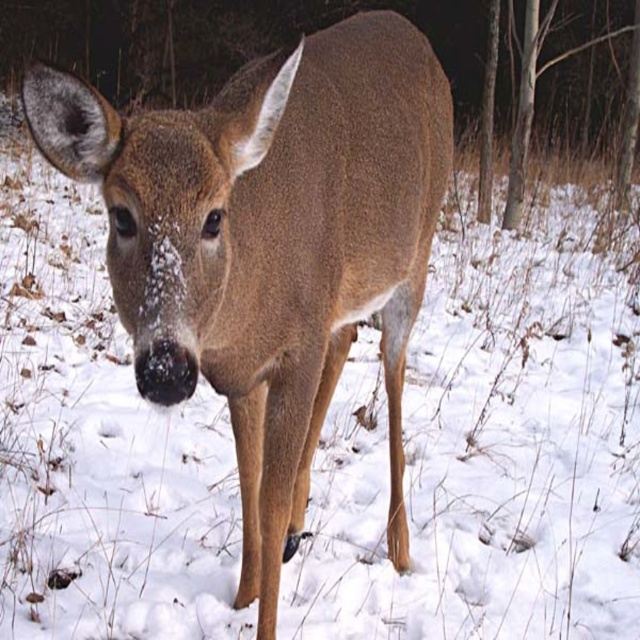Deer: (18, 4, 454, 639)
